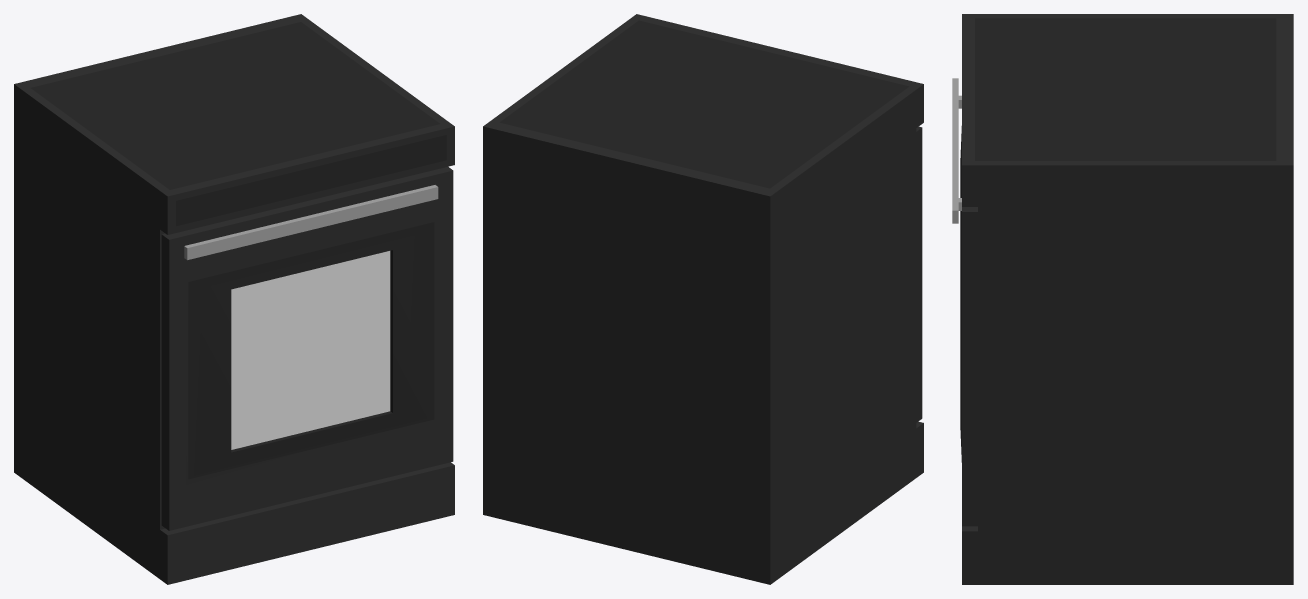
Rendered from Oven_01.fbx.
3 views of the same model, side by side, from view 1: azimuth 30°, elevation 25°; view 2: azimuth 150°, elevation 25°; view 3: azimuth 270°, elevation 25° (orthographic). The views are drawn at different scales.
Visible parts, largest first — view 1: Oven_01, Oven_01_Door; view 2: Oven_01, Oven_01_Door; view 3: Oven_01, Oven_01_Door.
Boxes of the visible parts, x1,y1,x2,y2 form: Oven_01: [14, 14, 454, 584]; Oven_01_Door: [161, 167, 453, 530]; Oven_01: [483, 14, 923, 584]; Oven_01_Door: [916, 126, 922, 422]; Oven_01: [962, 14, 1293, 584]; Oven_01_Door: [952, 78, 977, 526].
Size of the model in its own units: 0.75 by 0.9692 by 0.7148.
